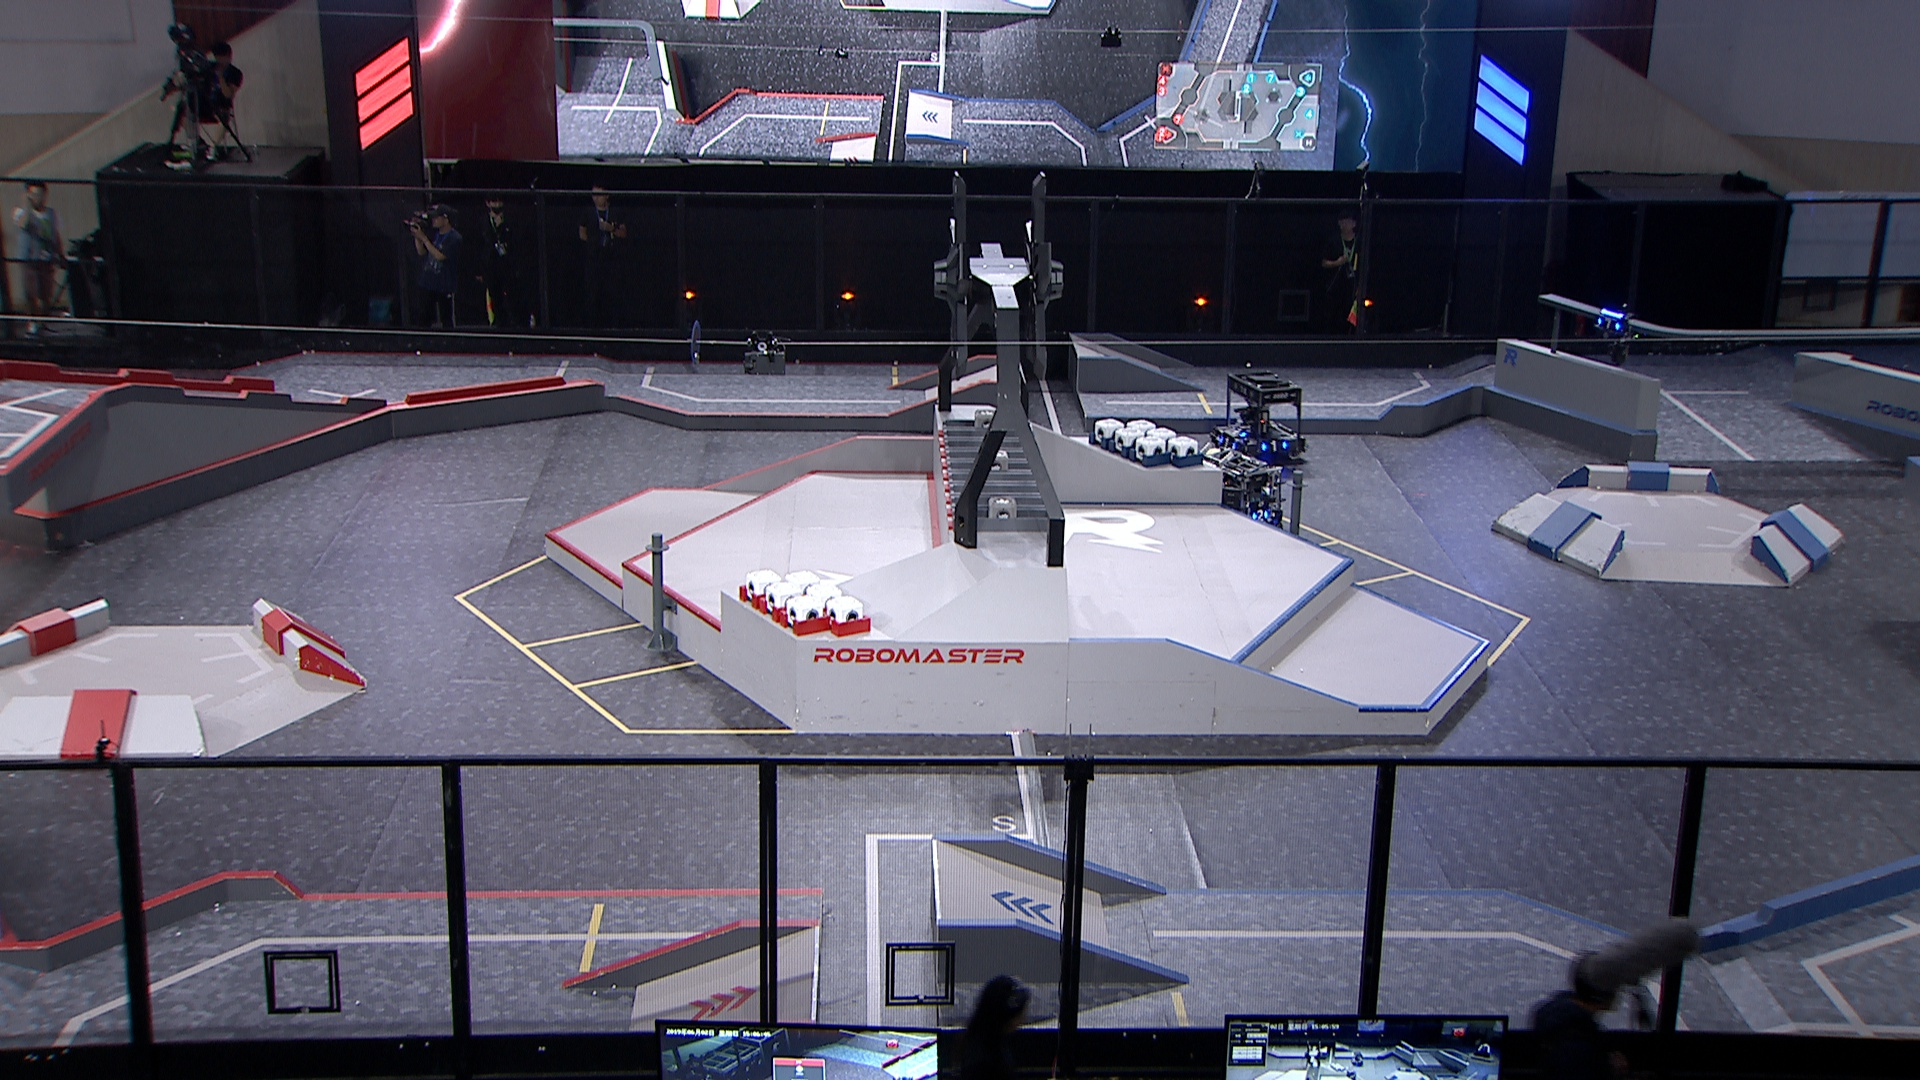armor: (1262, 436, 1288, 454), (1596, 314, 1619, 332), (1218, 433, 1238, 451), (1228, 423, 1247, 439), (1250, 509, 1269, 522)
car: (1212, 368, 1309, 465), (1192, 446, 1287, 545)
ignore: (1470, 1039, 1493, 1059), (1349, 1052, 1366, 1065), (1348, 1072, 1357, 1080)
watcher: (1586, 295, 1636, 365)
